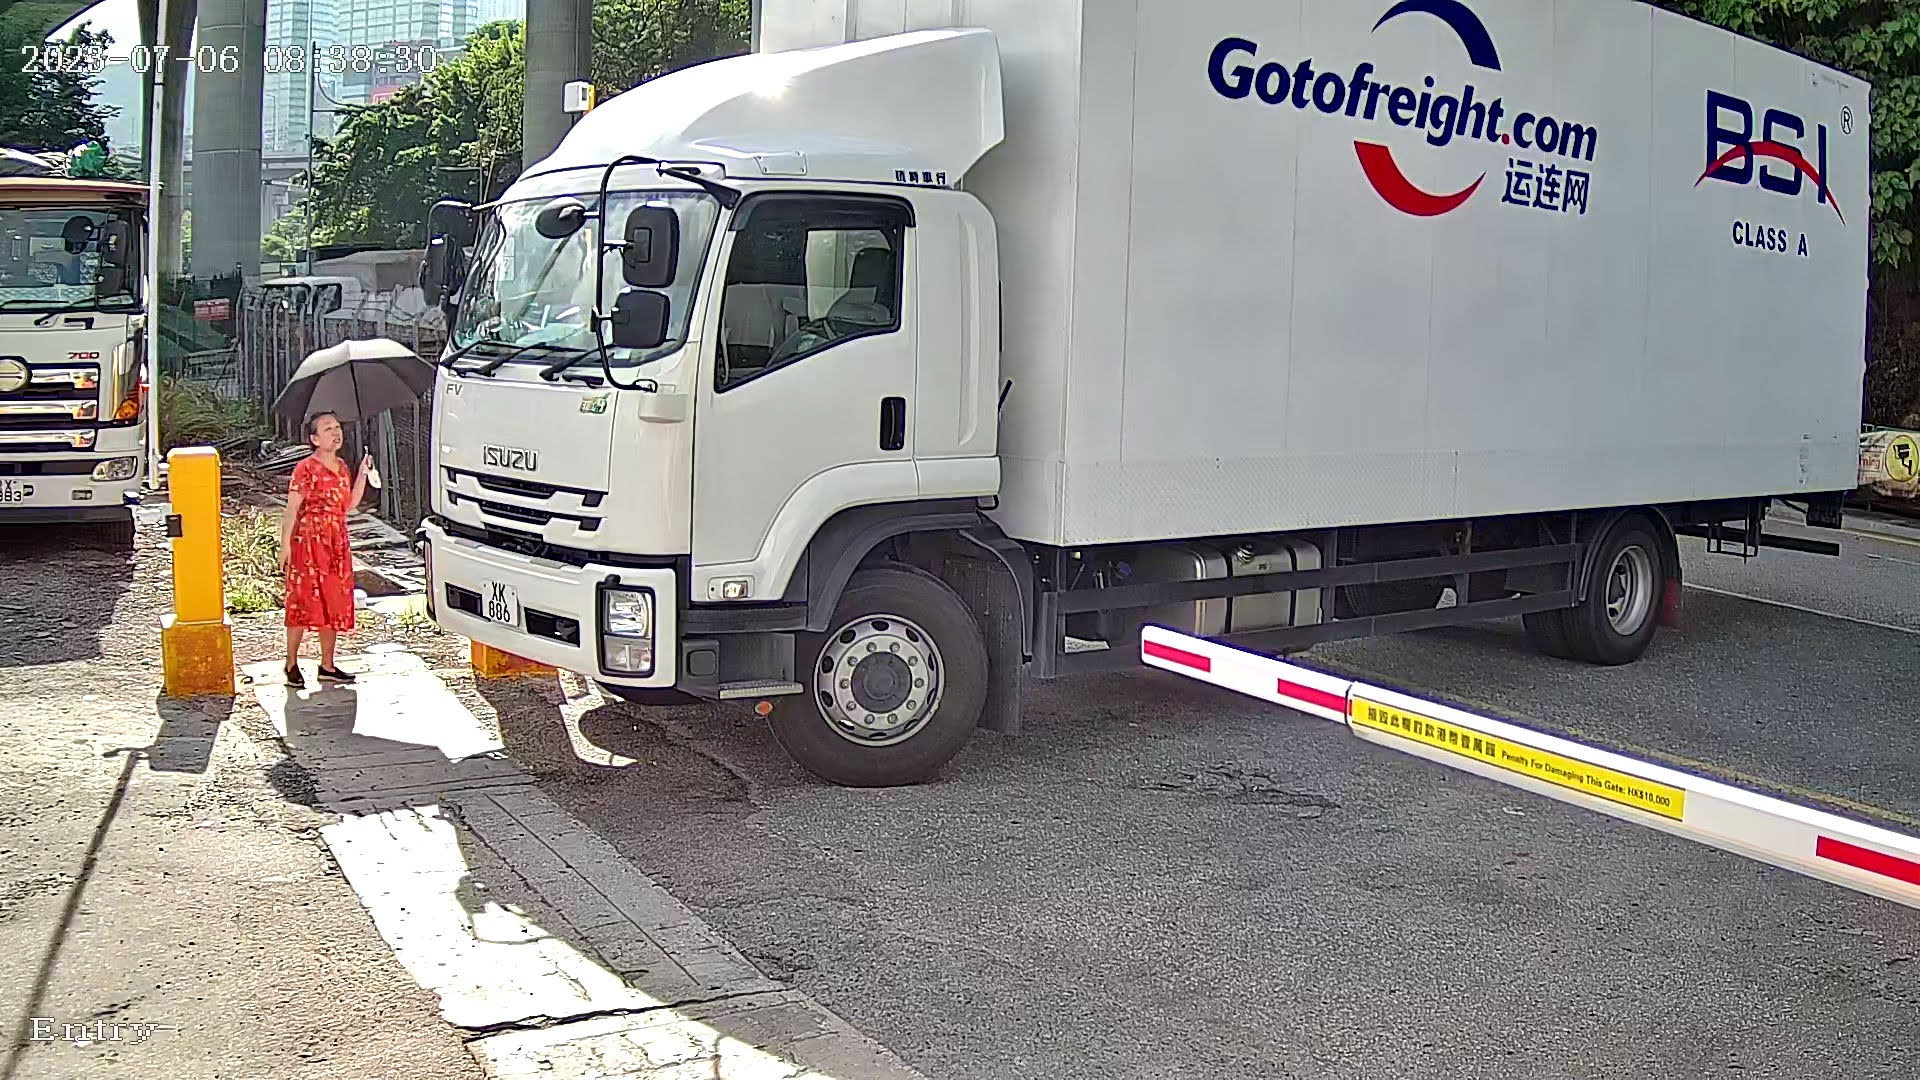truck: (398, 1, 1919, 756)
